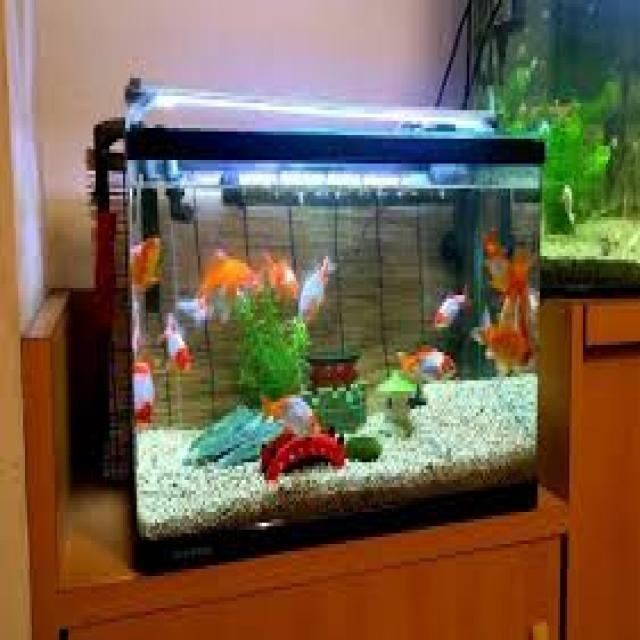goldfish: (401, 346, 462, 392)
